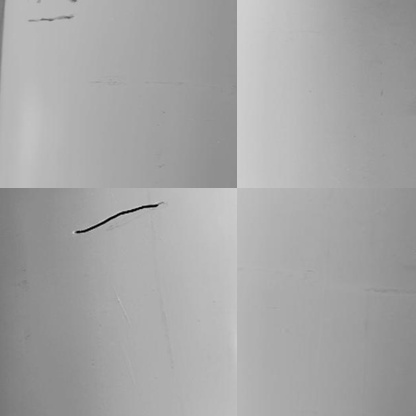fengxi: (70, 199, 165, 232), (27, 14, 78, 26)
